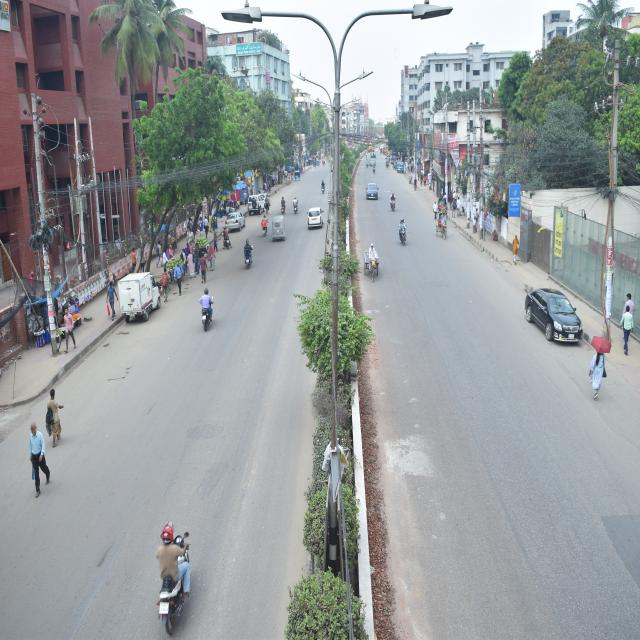car: (524, 284, 588, 348), (306, 204, 326, 232), (224, 210, 248, 232), (244, 192, 268, 214), (362, 178, 380, 204)
motorbike: (149, 522, 196, 636), (198, 288, 216, 338), (396, 216, 410, 250), (242, 242, 256, 274), (220, 226, 233, 254), (260, 211, 270, 241), (387, 191, 398, 214), (278, 193, 289, 216), (291, 194, 301, 217), (320, 179, 329, 196)
pickup-van: (116, 268, 162, 322)
